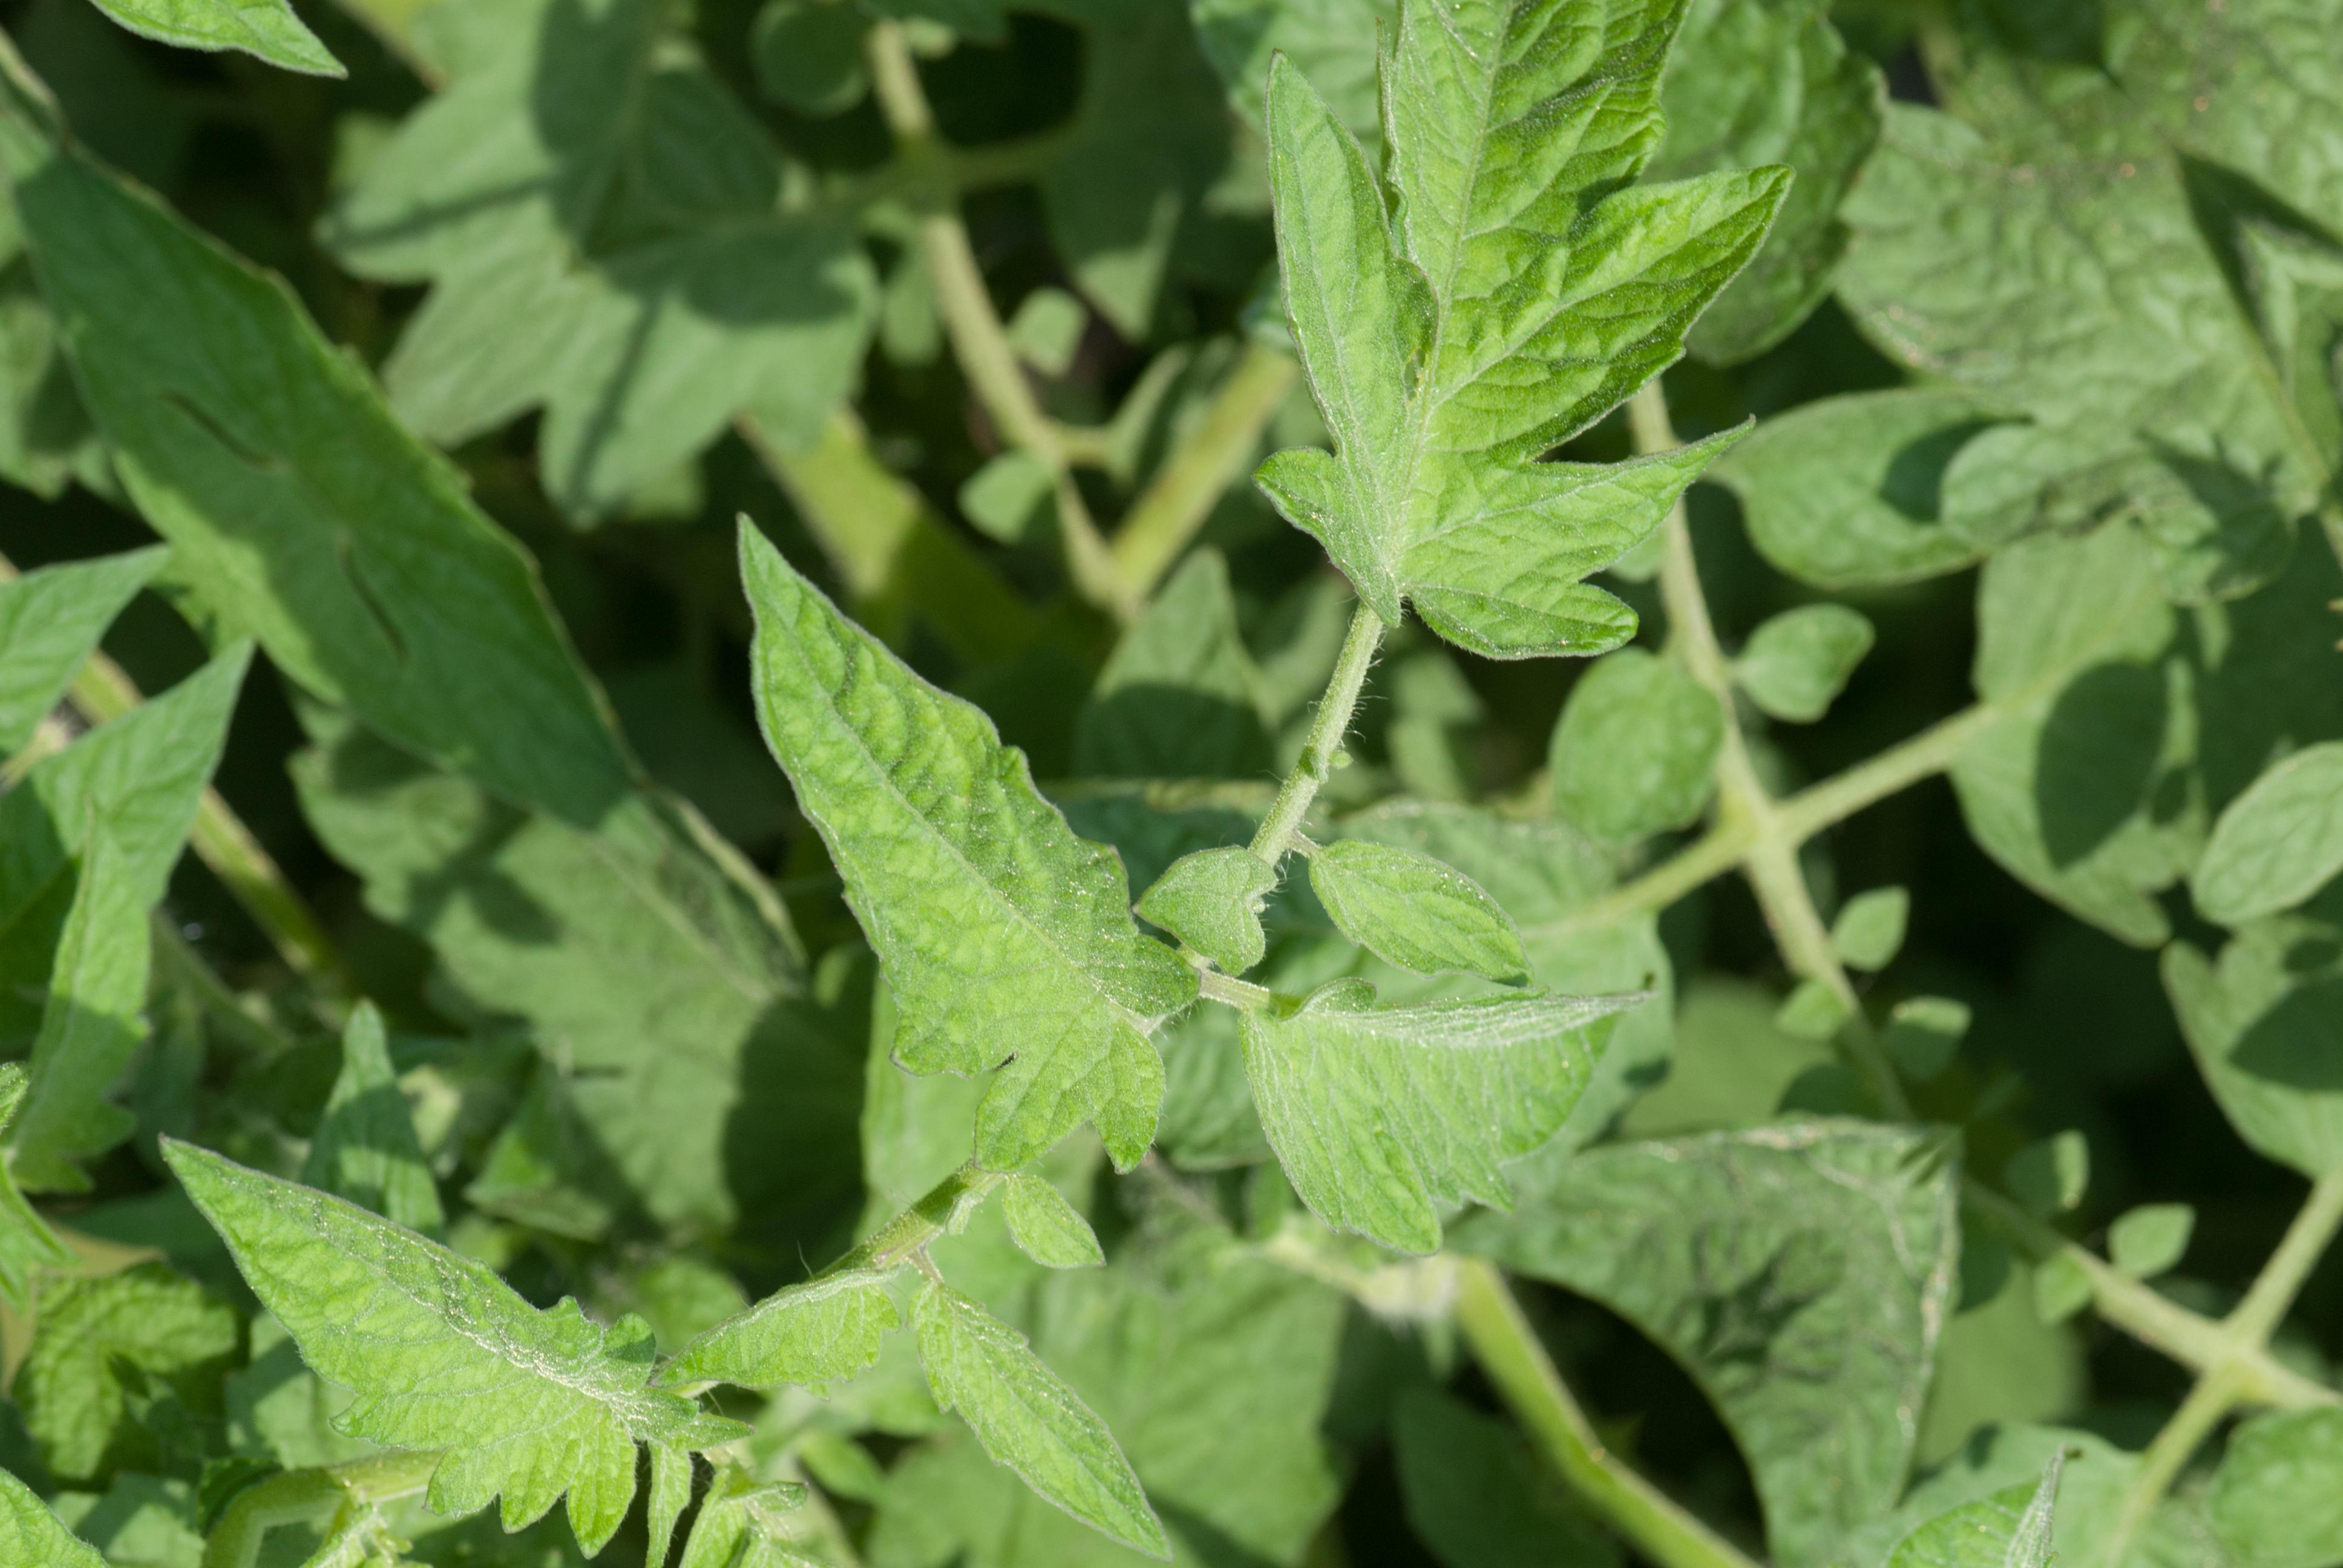Tomato leaf: (906, 0, 1999, 824), (503, 462, 1296, 1289), (30, 913, 814, 1568), (1110, 731, 1748, 1370)
